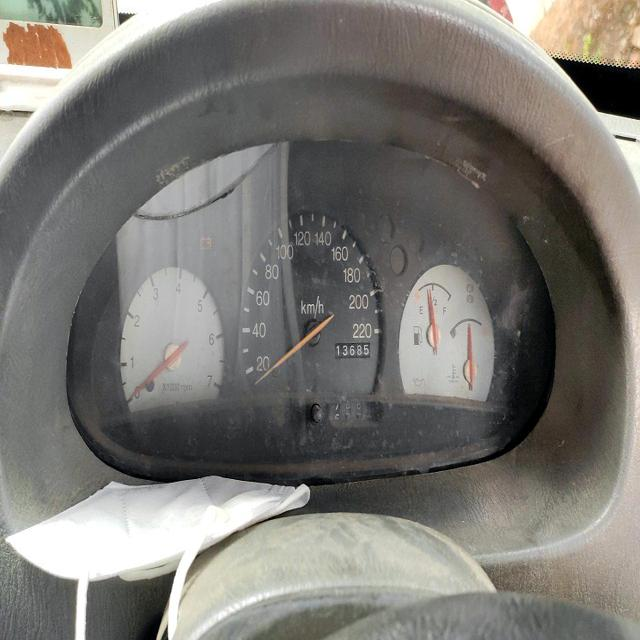odometer: (334, 342, 370, 359)
